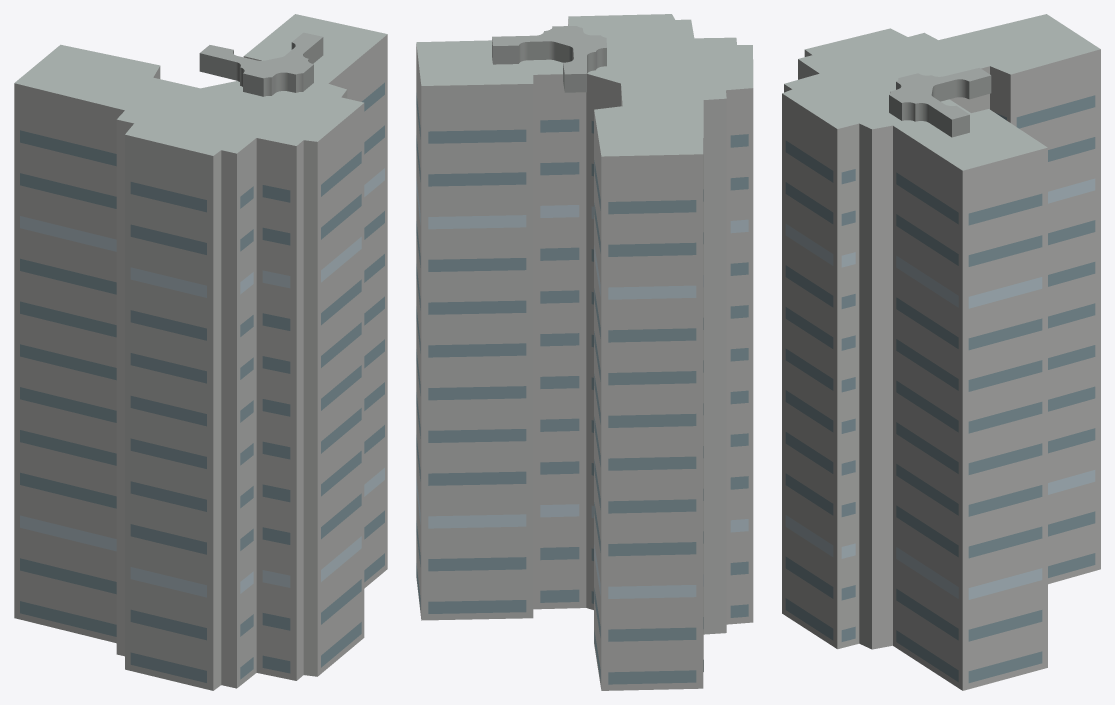
File: fallback-gangdong-lotte-castle-first-101.glb
3 views of the same model, side by side, from view 1: azimuth 30°, elevation 25°; view 2: azimuth 150°, elevation 25°; view 3: azimuth 270°, elevation 25° (orthographic). The views are drawn at different scales.
Parts seen in each view (by area): view 1: fallback-gangdong-lotte-castle-first-101; view 2: fallback-gangdong-lotte-castle-first-101; view 3: fallback-gangdong-lotte-castle-first-101.
Part boxes in pixels (left/top/right/bottom): fallback-gangdong-lotte-castle-first-101: left=14, top=14, right=387, bottom=690; fallback-gangdong-lotte-castle-first-101: left=416, top=14, right=753, bottom=690; fallback-gangdong-lotte-castle-first-101: left=782, top=14, right=1100, bottom=690.
Size of the model in its own units: 45 by 72 by 38.65.
